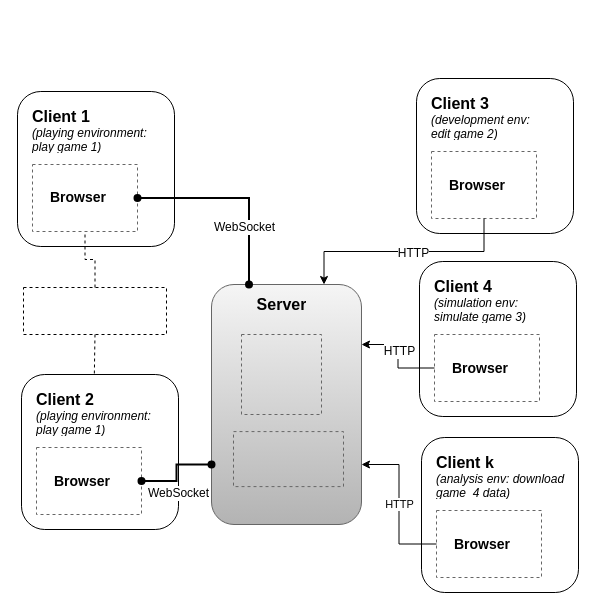
Image size: 596x610. Some labels were removed from this diagram. The box of each missing label's shape, as (x1, y1, x2, y2) in pixels:
Chart Server: (22, 286, 166, 334)
MongoDB: (232, 431, 344, 487)
Node.js: (240, 334, 322, 414)
